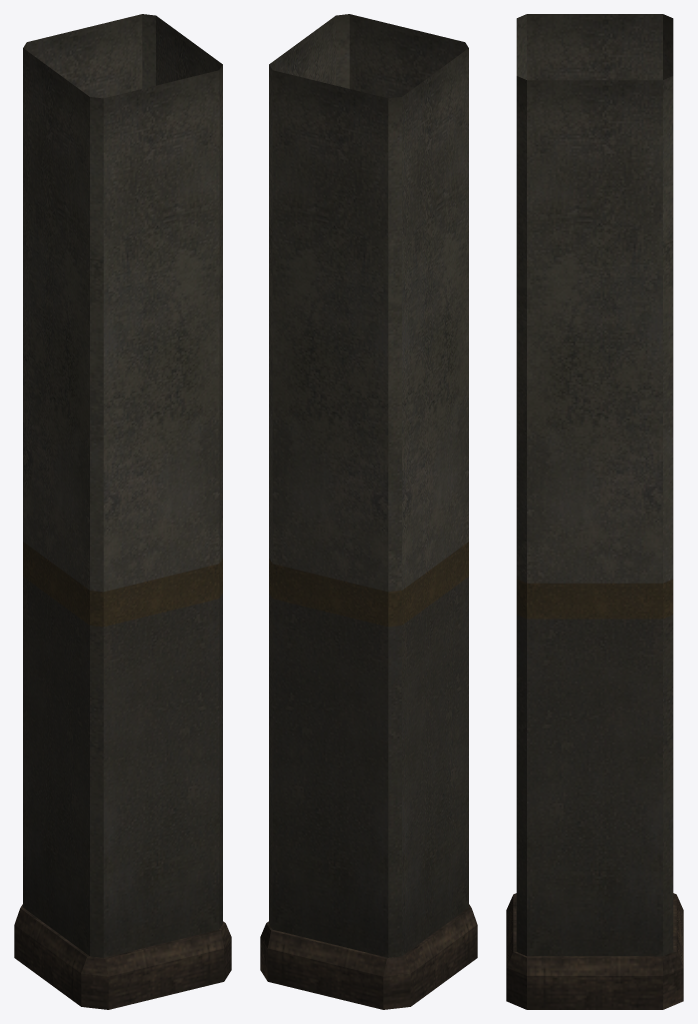
The model's file is pillar_1.obj.
The picture shows the model from 3 angles, left to right: view 1: azimuth 30°, elevation 25°; view 2: azimuth 150°, elevation 25°; view 3: azimuth 270°, elevation 25°; orthographic projection.
Parts seen in each view (by area): view 1: pillar_1; view 2: pillar_1; view 3: pillar_1.
Part boxes in pixels (x1,y1,x2,y2): pillar_1: (14, 14, 231, 1009); pillar_1: (260, 14, 477, 1009); pillar_1: (506, 14, 683, 1009).
Size of the model in its own units: 0.52 by 3 by 0.52.
